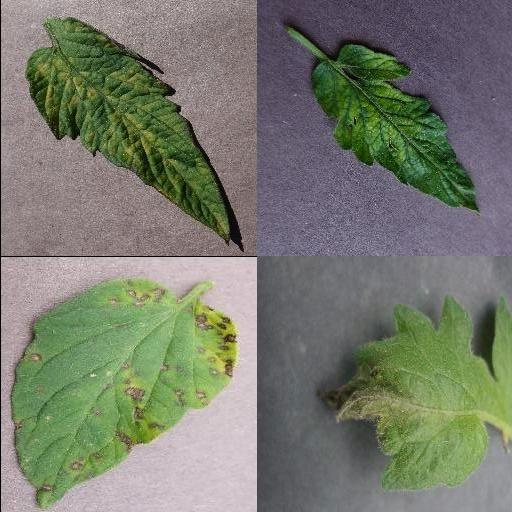Late Blight: (314, 294, 512, 492)
Leaf Mold: (26, 19, 230, 245)
Mosaic Virus: (308, 45, 482, 213)
Septoria: (8, 276, 236, 508)
